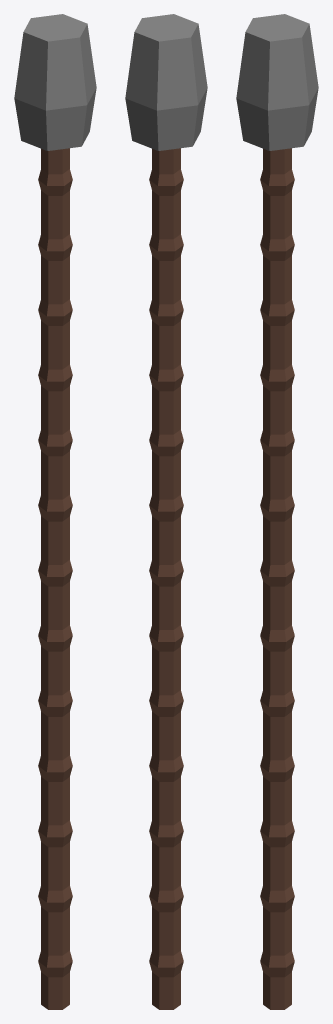
The model's file is metal-bar.glb.
3 renders of one model, left to right at view 1: azimuth 30°, elevation 25°; view 2: azimuth 210°, elevation 25°; view 3: azimuth 270°, elevation 25°, orthographic.
Parts seen in each view (by area): view 1: metal_bar; view 2: metal_bar; view 3: metal_bar.
Part boxes in pixels (<box>): metal_bar: <box>14,14,96,1009</box>; metal_bar: <box>125,14,207,1009</box>; metal_bar: <box>236,14,318,1009</box>.
Bounding box in the file's own units: 0.0702 × 0.9 × 0.0688.
